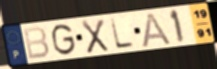1: (168, 8, 187, 45)
A: (140, 11, 174, 49)
B: (21, 26, 51, 61)
G: (51, 22, 78, 57)
L: (109, 17, 136, 51)
X: (80, 18, 111, 55)
